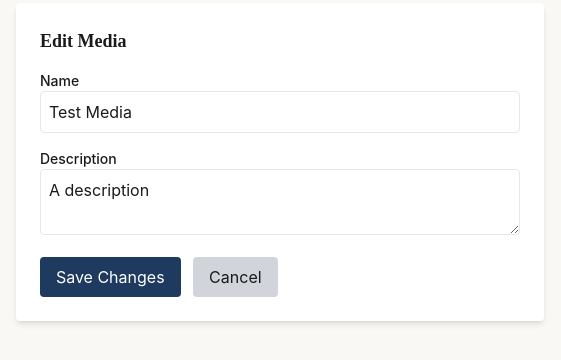
it: EditMediaModal › shows API error message when update fails
This screenshot has width=561, height=360.
Click the button "Save Changes" at [110, 277], box 40,257 -> 181,297
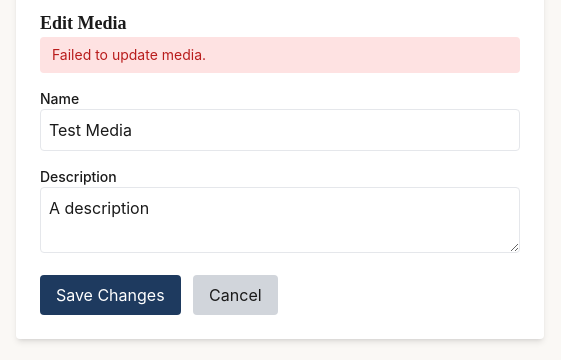
Expected: the text "Failed to update media." is shown, 40,37 -> 520,73
